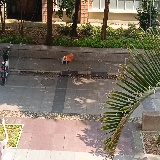fire: (64, 53, 73, 63)
